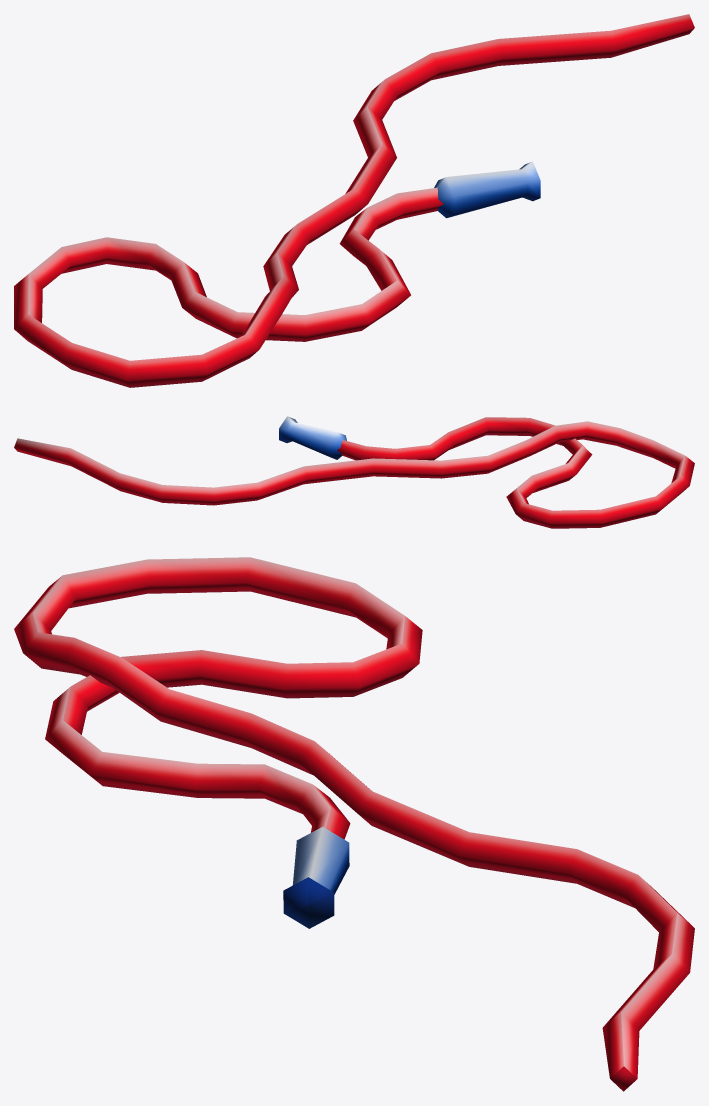
The model's file is Hose_2C.fbx.
3 renders of one model, top to bottom at view 1: azimuth 30°, elevation 25°; view 2: azimuth 150°, elevation 25°; view 3: azimuth 270°, elevation 25°, orthographic. The views are drawn at different scales.
Parts seen in each view (by area): view 1: Hose_2C; view 2: Hose_2C; view 3: Hose_2C.
Boxes of the visible parts, x1=… form: Hose_2C: x1=14, y1=14, x2=694, y2=387; Hose_2C: x1=14, y1=416, x2=694, y2=528; Hose_2C: x1=14, y1=557, x2=694, y2=1091.
Bounding box in the file's own units: 233 × 14.74 × 131.
